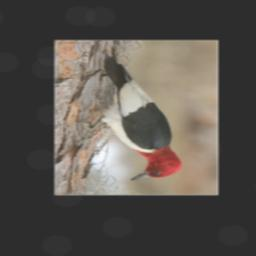Woodpecker: (75, 48, 184, 183)
